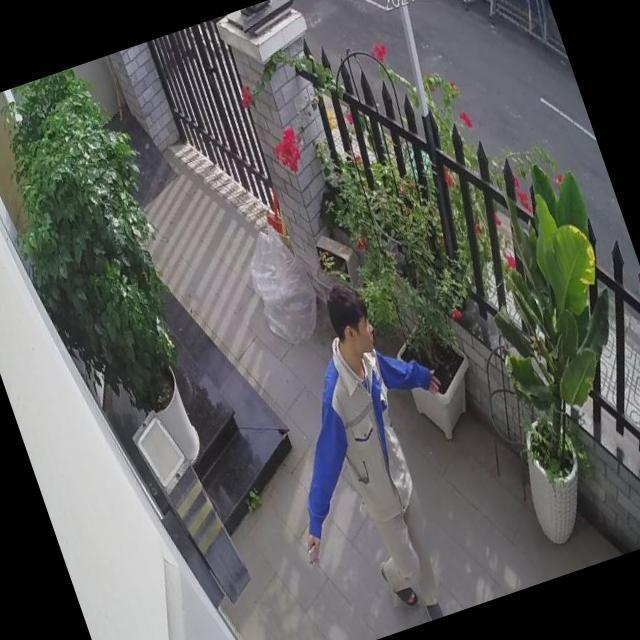person: (225, 261, 511, 640)
